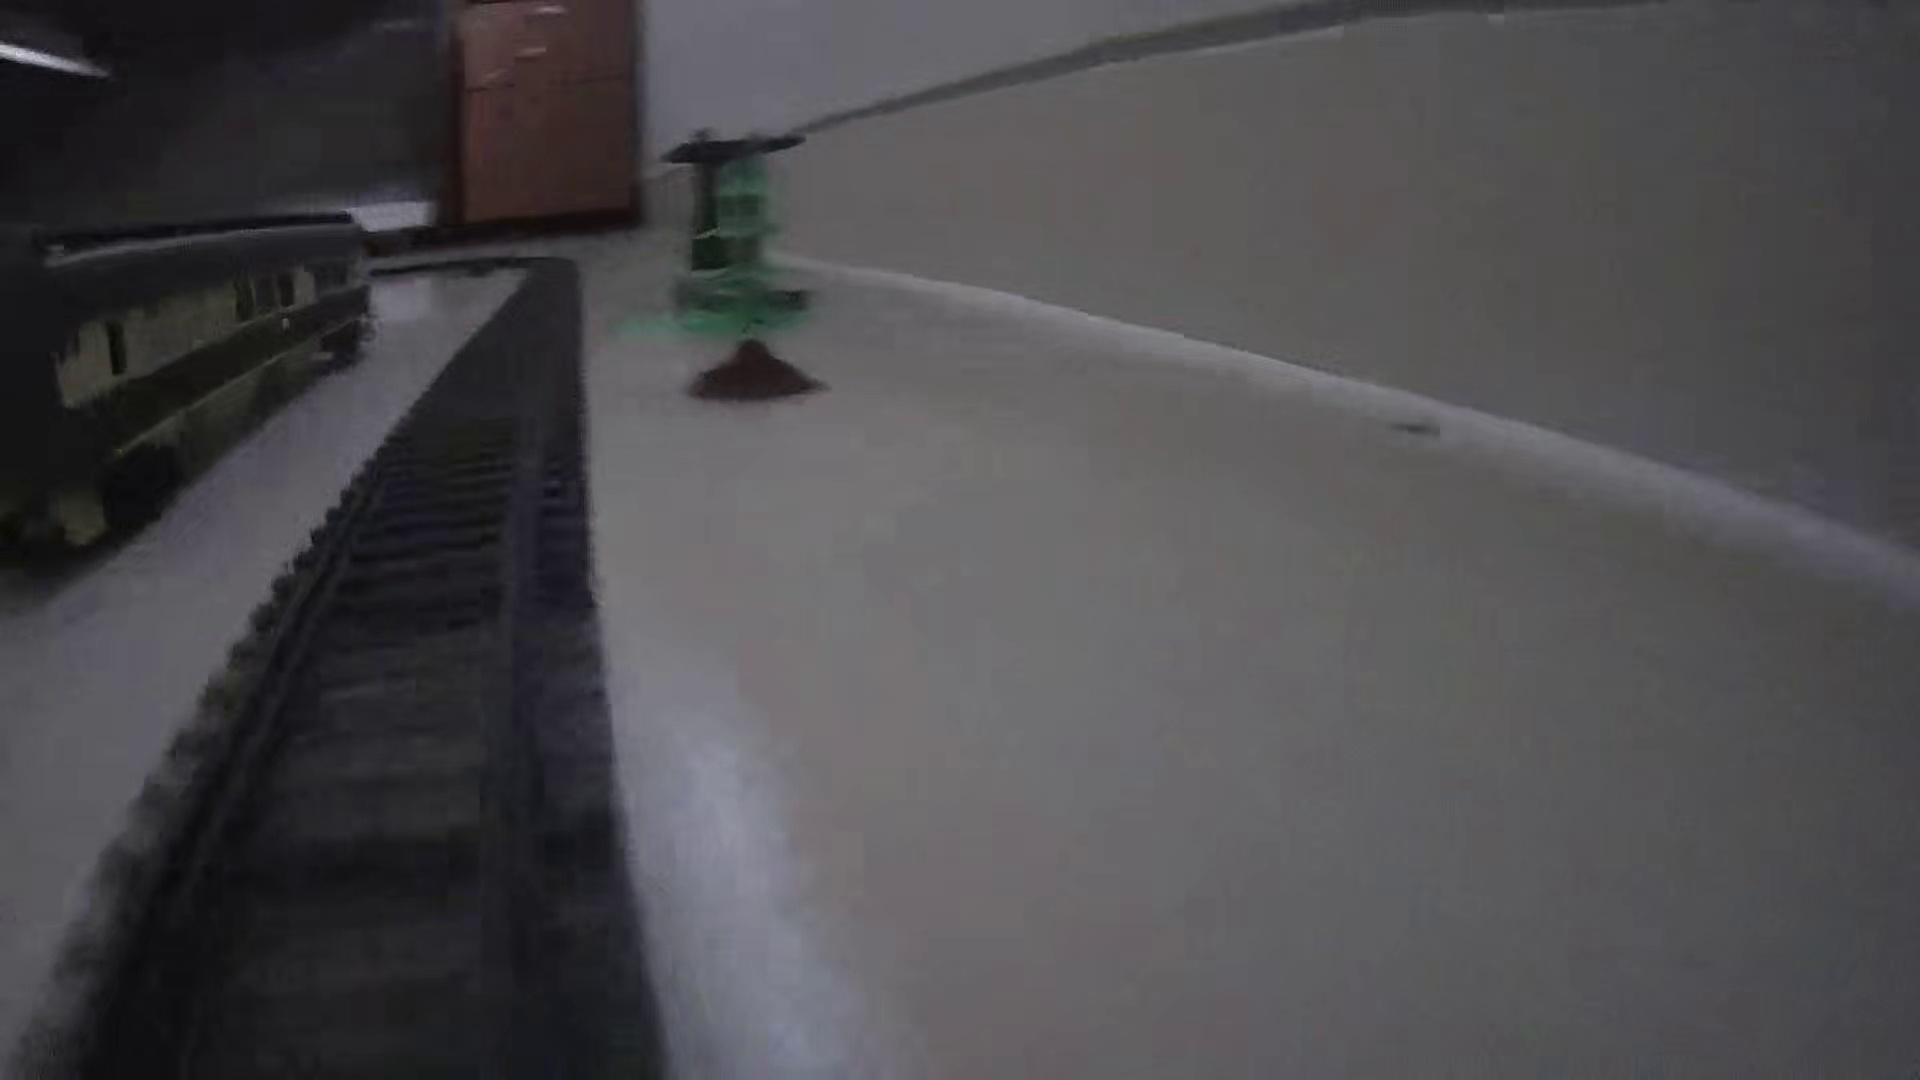tree: (678, 127, 835, 407)
